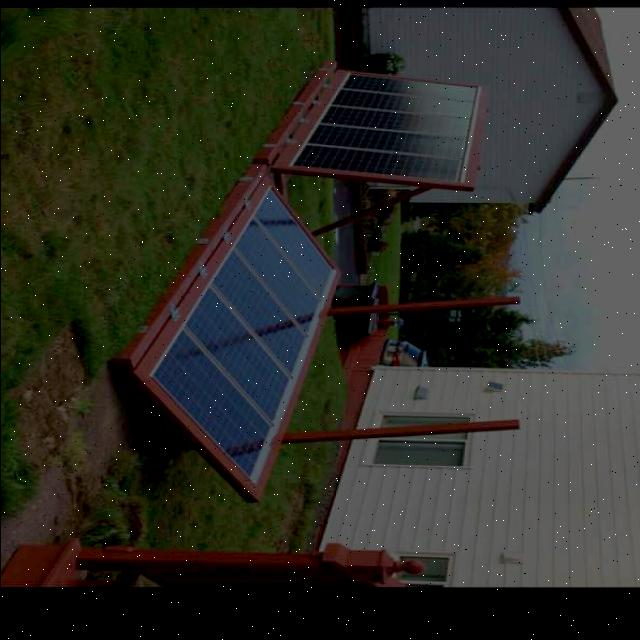Normal Solar Panel: (152, 187, 334, 483), (294, 72, 474, 180)
